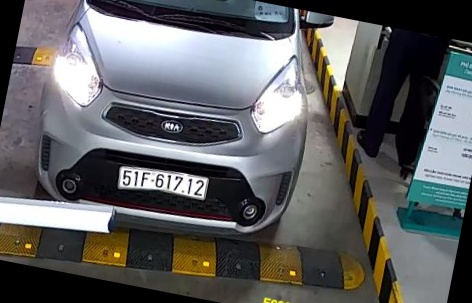plate: (105, 161, 223, 209)
